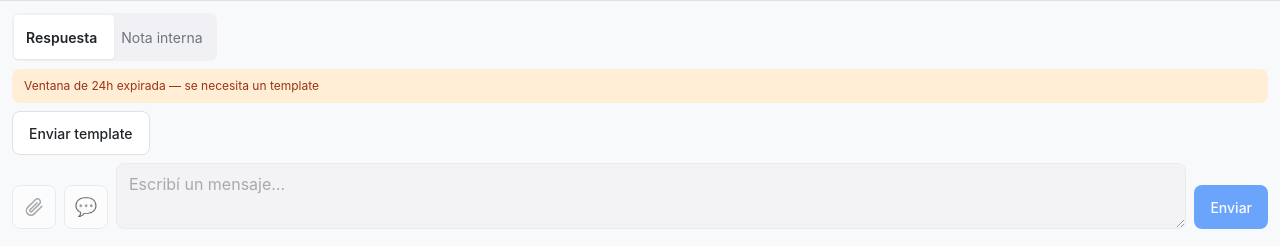
Composer — modo Nota (fase D, design §10: 4 combinaciones mode×canReply) › note + canReply:false → sin aviso de ventana expirada
Step 1. Click the radio button labelled "Nota interna" → (162, 37), box x1=121 y1=28 x2=203 y2=46
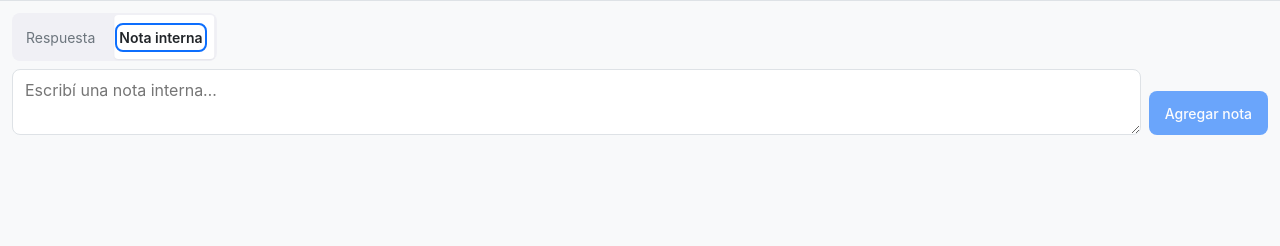
Expected: the text "Ventana de 24h expirada" is gone
